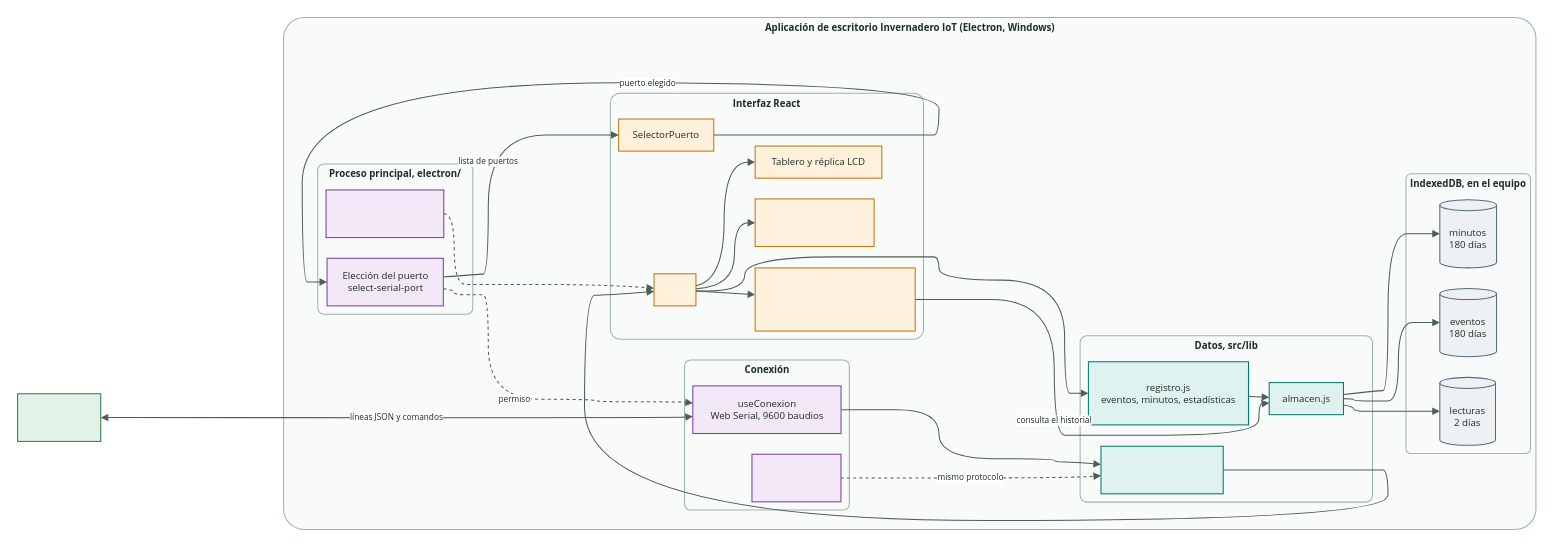
Image size: 1553x546. Some labels were removed from this diagram. The centre of each missing label's shape, as x and y in pixels:
"App" goes at pixel 674 289.
"Arduino Uno USB serie" goes at pixel 59 417.
"Gráficas, Historial, Eventos, Ajustes, Calibración, Consola" goes at pixel 834 299.
"main.cjs ventana y permisos" goes at pixel 384 213.
"Maqueta interactiva escena/" goes at pixel 814 222.
"protocolo.js interpreta cada línea" goes at pixel 1161 469.
"Simulador demostración" goes at pixel 796 477.
